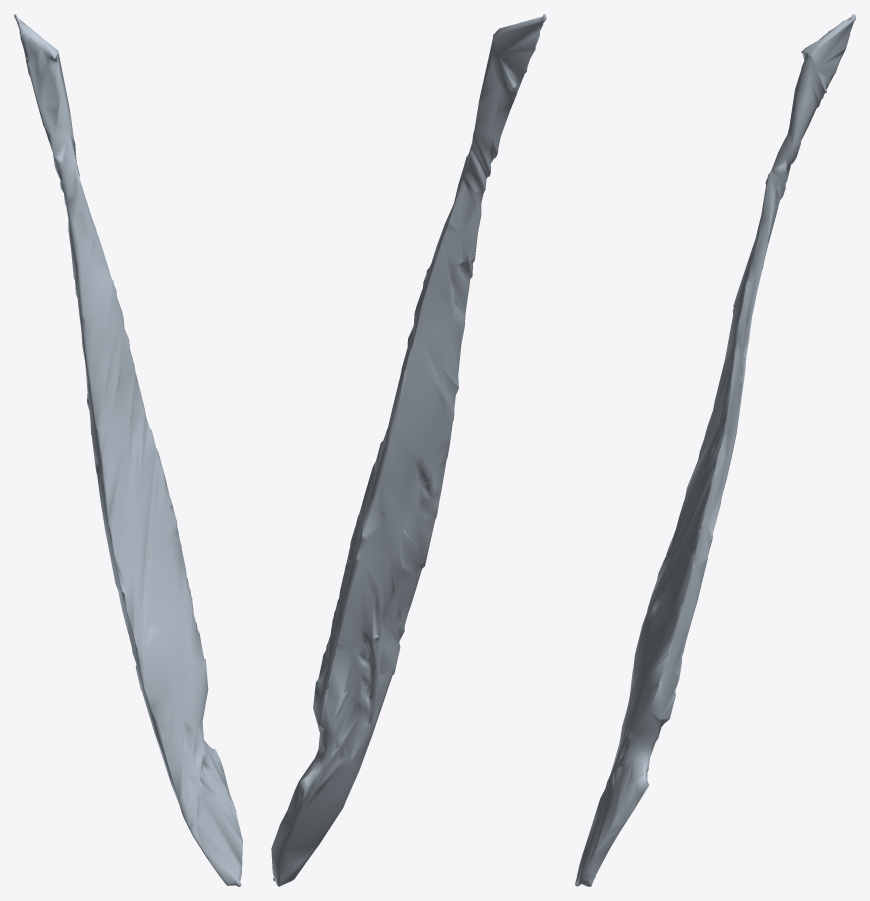
The model's file is interosseous-membrane-of-forearm-l.glb.
3 views of the same model, side by side, from view 1: azimuth 30°, elevation 25°; view 2: azimuth 210°, elevation 25°; view 3: azimuth 270°, elevation 25° (orthographic). The views are drawn at different scales.
Parts seen in each view (by area): view 1: Interosseous membrane of forearm.l; view 2: Interosseous membrane of forearm.l; view 3: Interosseous membrane of forearm.l.
Part boxes in pixels (left/top/right/bottom): Interosseous membrane of forearm.l: left=14, top=14, right=242, bottom=886; Interosseous membrane of forearm.l: left=271, top=14, right=546, bottom=886; Interosseous membrane of forearm.l: left=575, top=14, right=855, bottom=886.
Size of the model in its own units: 0.0225 by 0.1615 by 0.0497.
